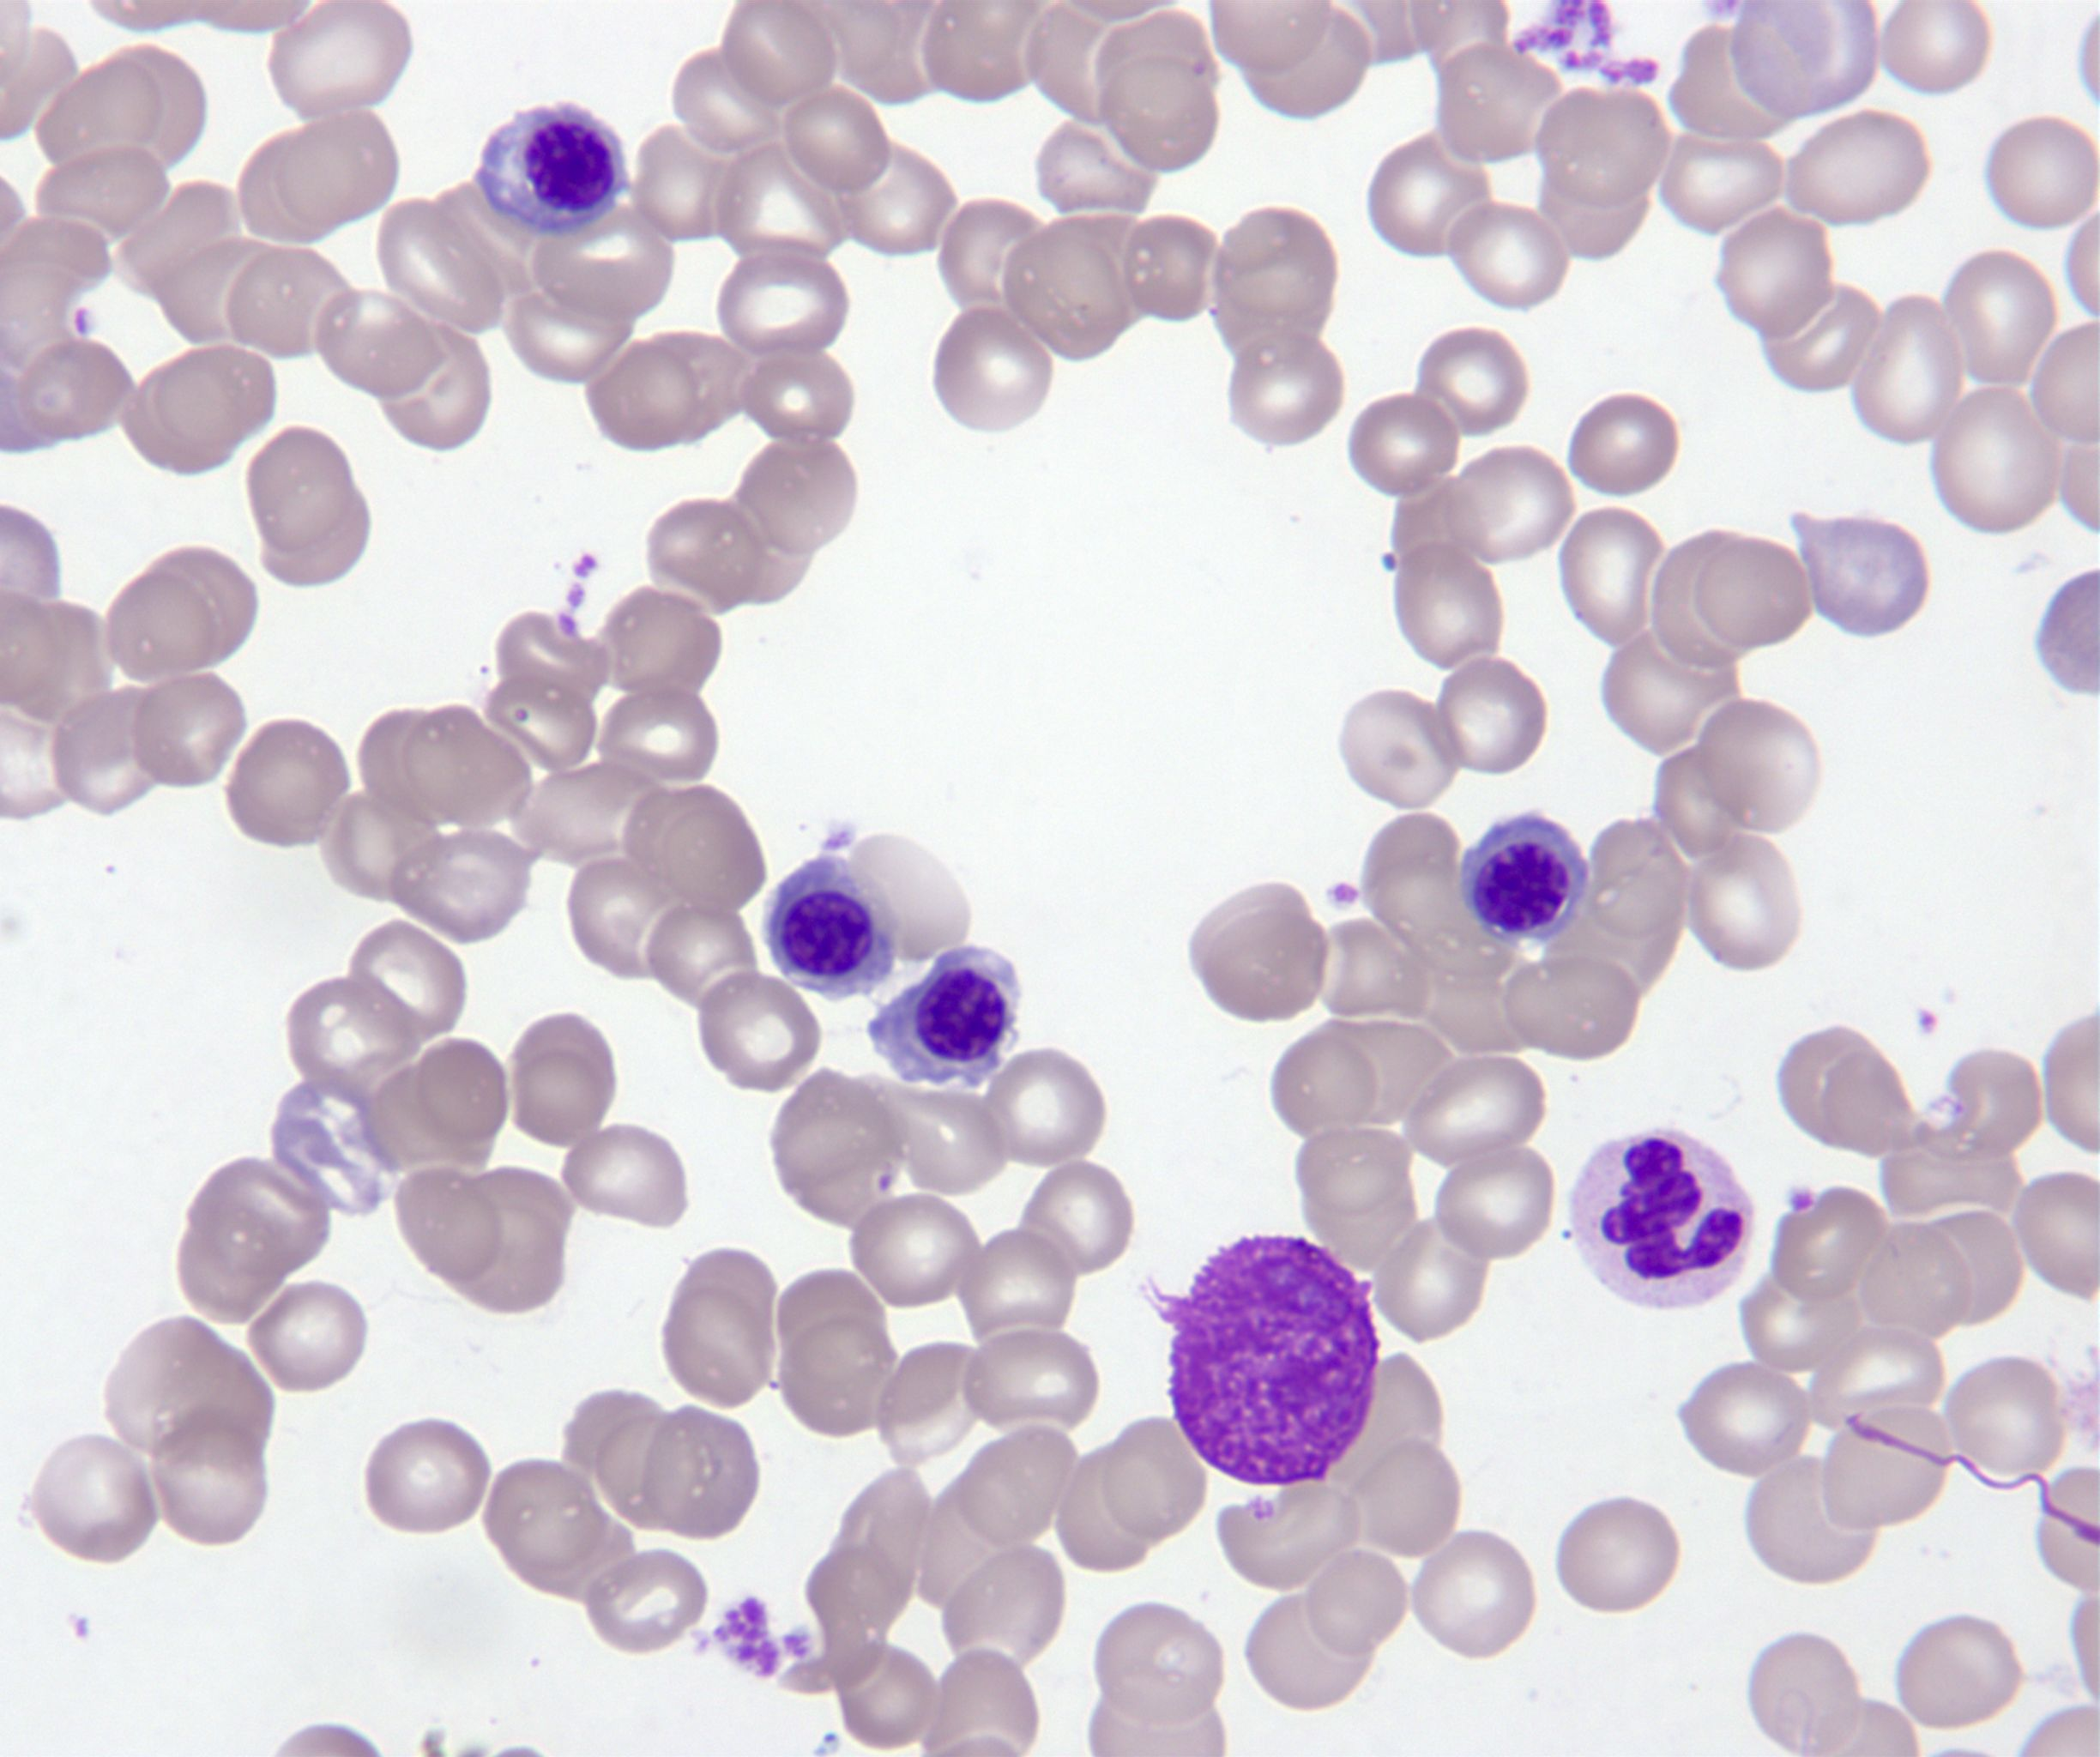24: (863, 940, 1026, 1092), (752, 848, 907, 1005), (460, 98, 633, 236), (1451, 801, 1591, 949)
6: (1565, 1122, 1763, 1316)
x: (1165, 1228, 1383, 1495)
